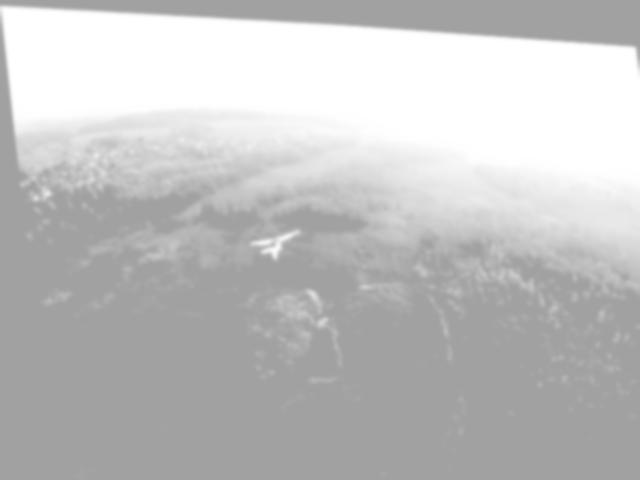hedef: (236, 217, 298, 263)
